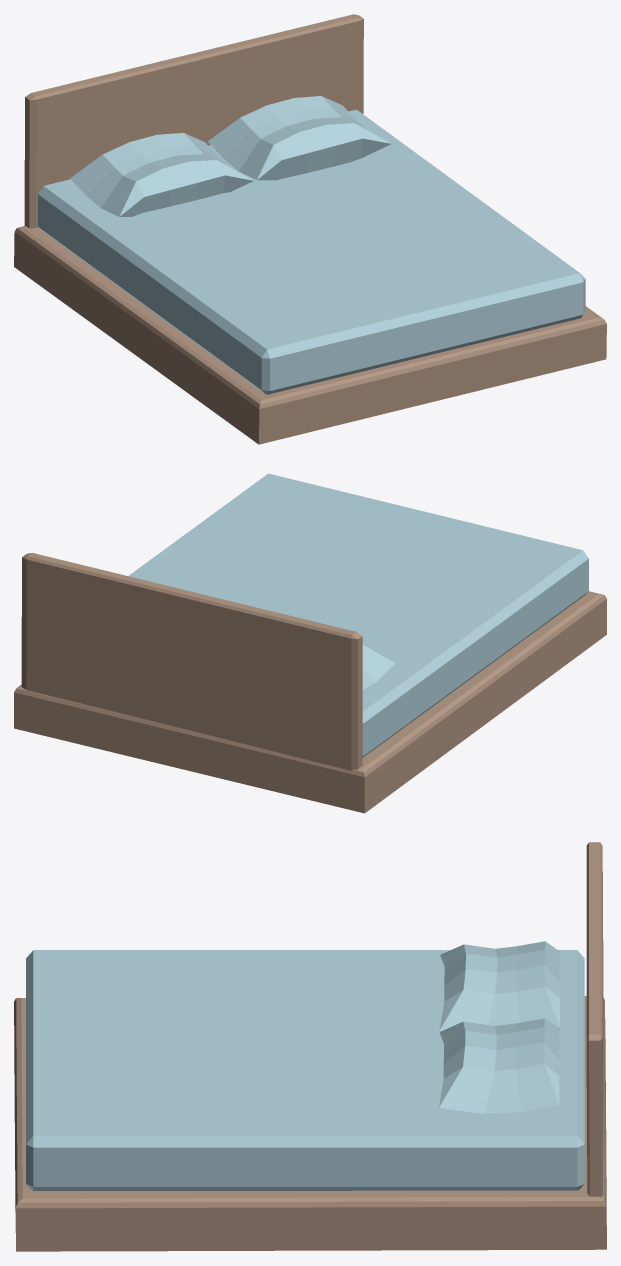
The model's file is Bed_7.fbx.
The picture shows the model from 3 angles, top to bottom: view 1: azimuth 30°, elevation 25°; view 2: azimuth 150°, elevation 25°; view 3: azimuth 270°, elevation 25°; orthographic projection. The views are drawn at different scales.
Visible parts, largest first — view 1: Bed_7; view 2: Bed_7; view 3: Bed_7.
Part boxes in pixels (x1,y1,x2,y2): Bed_7: (14, 14, 606, 444); Bed_7: (14, 473, 606, 813); Bed_7: (14, 842, 606, 1251).
Size of the model in its own units: 184 by 222 by 86.65.
